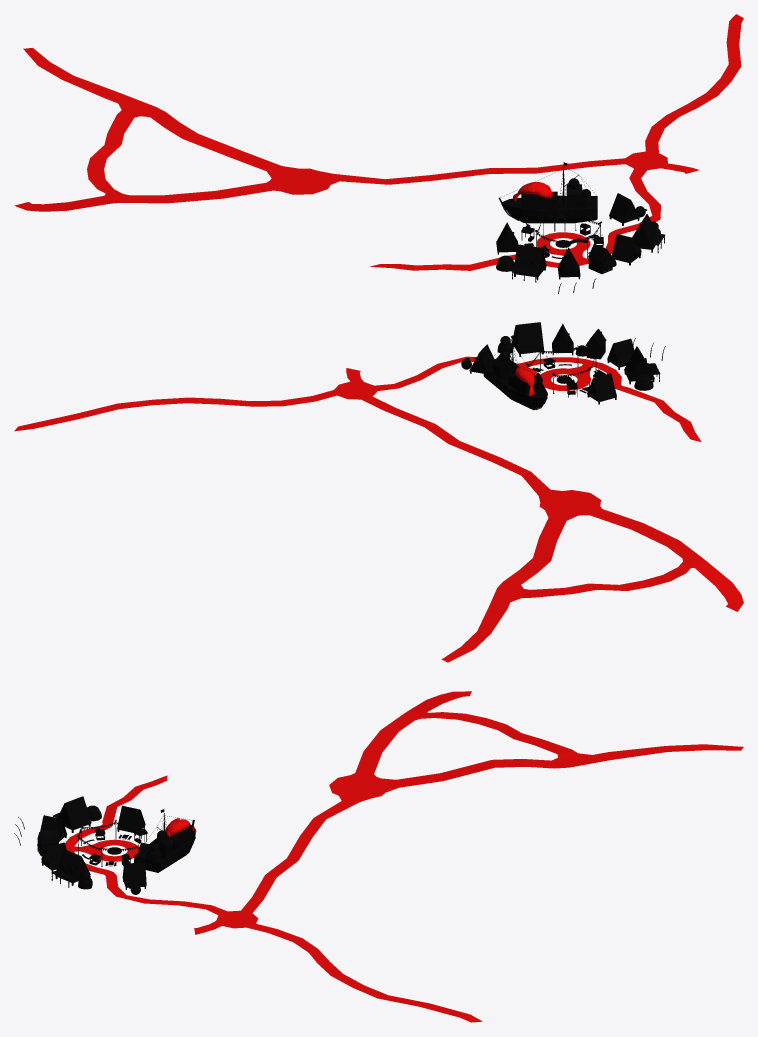
Rendered from Neighborhood_SalmonSettlementLocked.glb.
3 renders of one model, top to bottom at view 1: azimuth 30°, elevation 25°; view 2: azimuth 150°, elevation 25°; view 3: azimuth 270°, elevation 25°, orthographic. The views are drawn at different scales.
Visible parts, largest first — view 1: Object_Road1, Neighborhood_SalmonSettlementLocked_Building_IglooBall; view 2: Object_Road1, Neighborhood_SalmonSettlementLocked_Building_IglooBall; view 3: Object_Road1, Neighborhood_SalmonSettlementLocked_Building_IglooBall.
Boxes of the visible parts, bbox=[...] form: Object_Road1: bbox=[14, 14, 743, 270]; Neighborhood_SalmonSettlementLocked_Building_IglooBall: bbox=[496, 162, 665, 293]; Object_Road1: bbox=[14, 356, 743, 662]; Neighborhood_SalmonSettlementLocked_Building_IglooBall: bbox=[461, 322, 665, 410]; Object_Road1: bbox=[65, 691, 743, 1022]; Neighborhood_SalmonSettlementLocked_Building_IglooBall: bbox=[14, 796, 196, 894].
Bounding box in the file's own units: 190 × 16.7 × 172.
